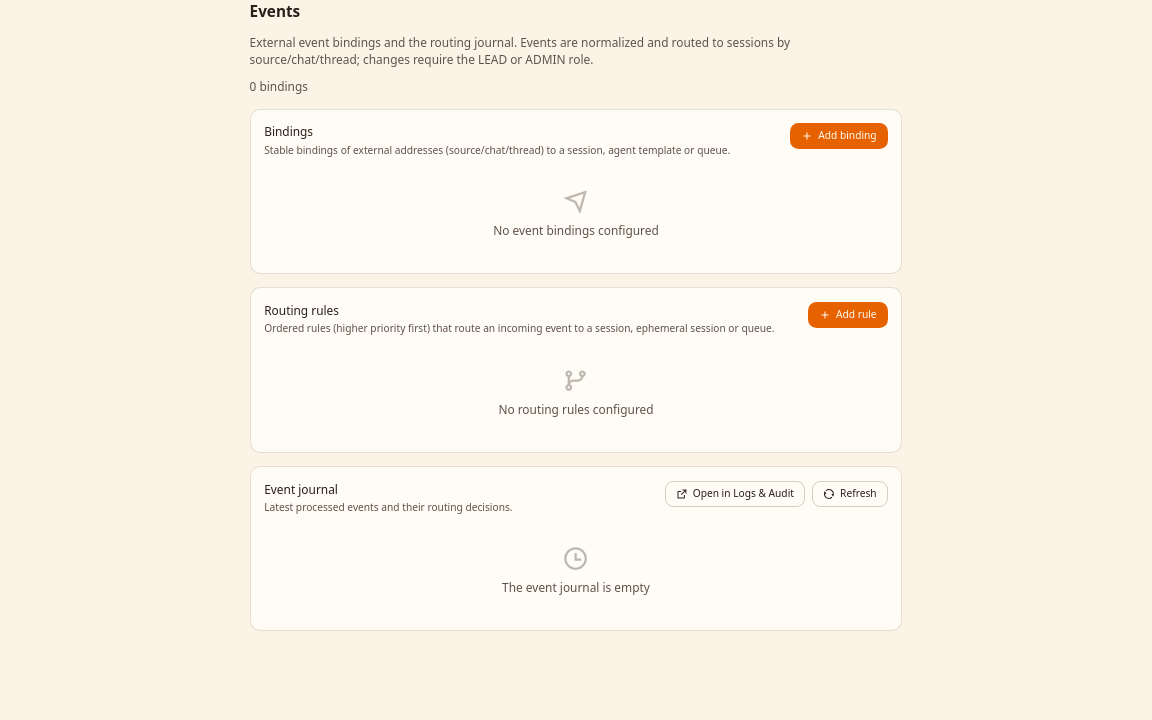
Test: EventsAdminSettings — биндинги и журнал (ADR-089) › кнопка «+» у селекта сессии открывает диалог создания сессии
Click the button with test id "events-binding-add".
click(839, 136)  # box [790,123,888,149]
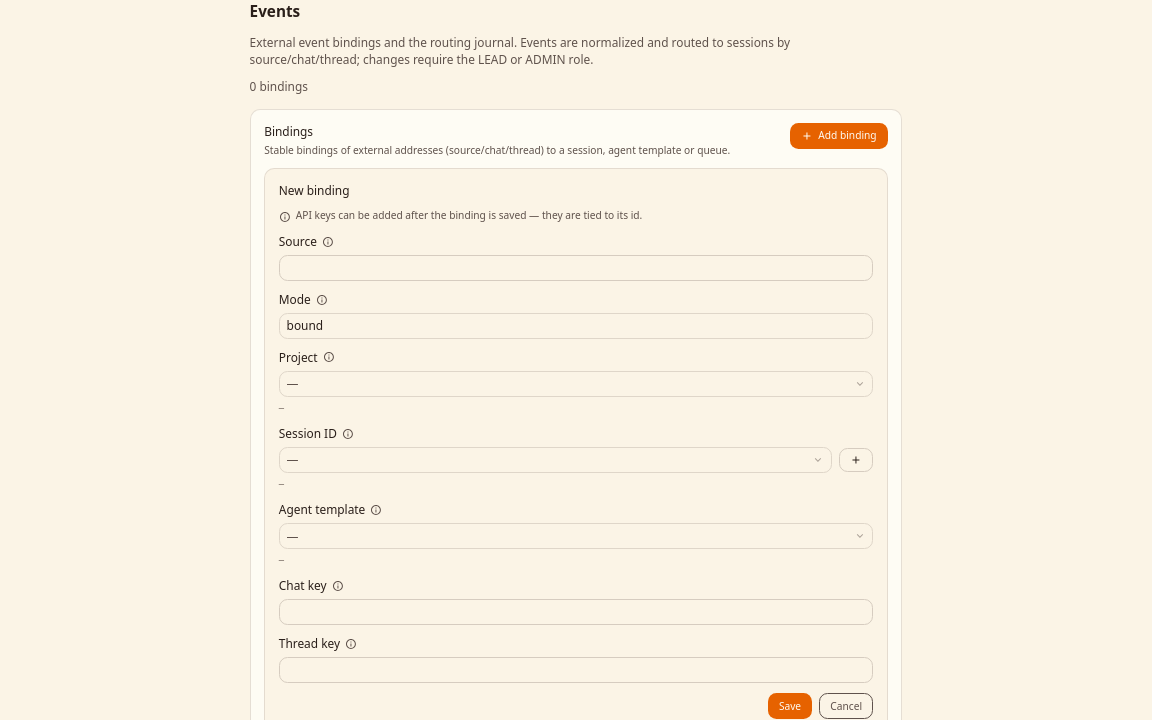
Click the button named "New session".
click(856, 460)  # box [839,448,873,472]
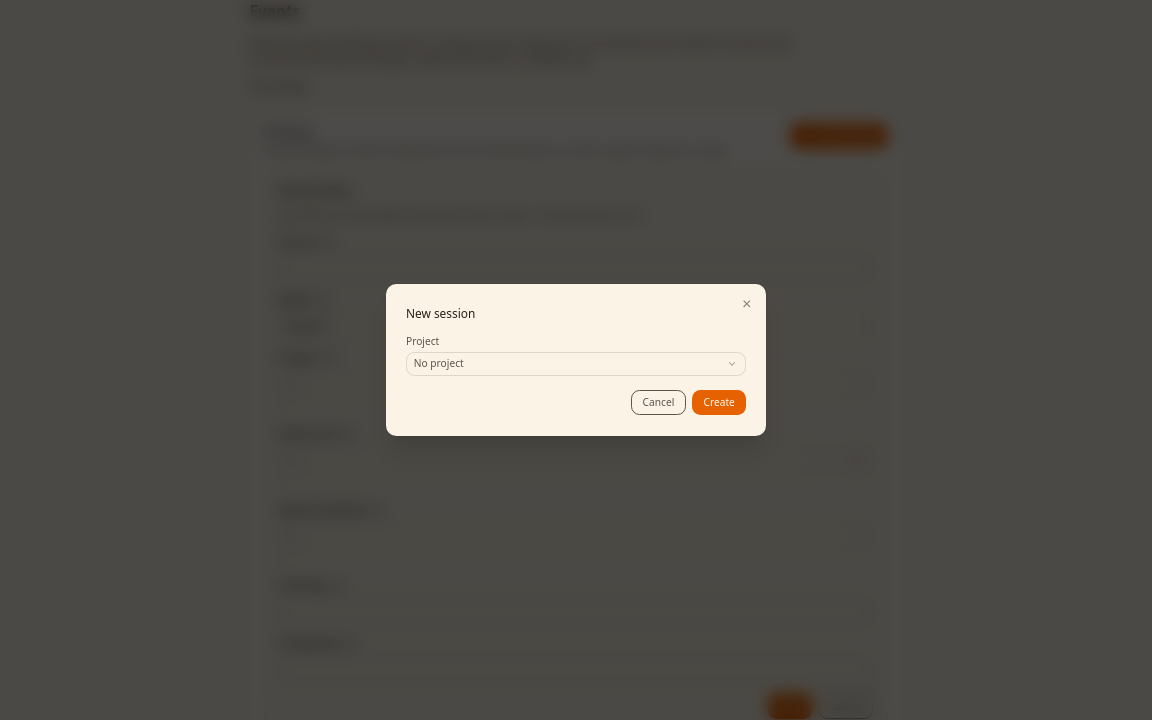
Check: the dialog with test id "session-create-dialog" is shown, box [386,284,766,436]
